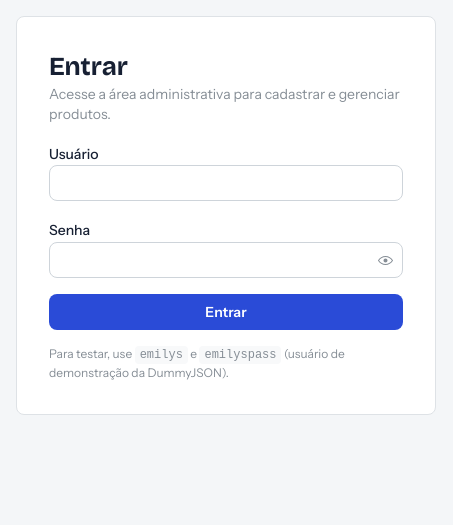
Scenario: LoginPage › exibe mensagem amigável quando as credenciais estão erradas
The width and height of the screenshot is (453, 525).
Type "emilys" into the field labelled "Usuário".
click(226, 184); type("emilys")  # box x1=49 y1=166 x2=403 y2=202
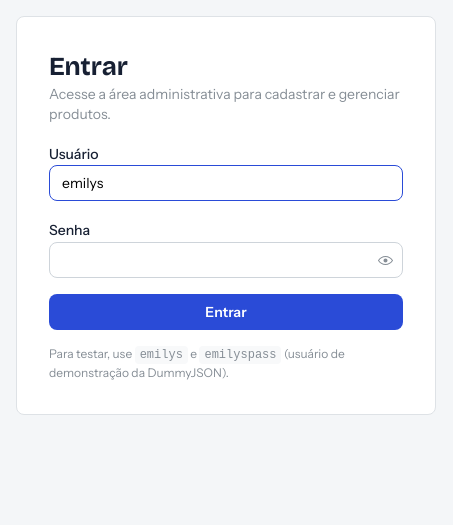
Type "errada" into the password field labelled "Senha".
click(226, 260); type("errada")  # box x1=50 y1=243 x2=402 y2=277
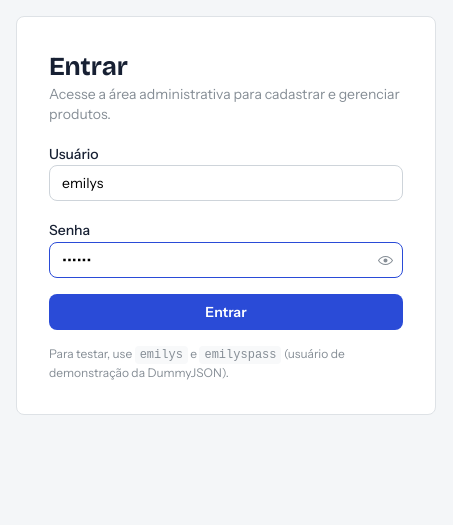
Click the button "Entrar".
click(226, 312)  # box x1=49 y1=294 x2=403 y2=330
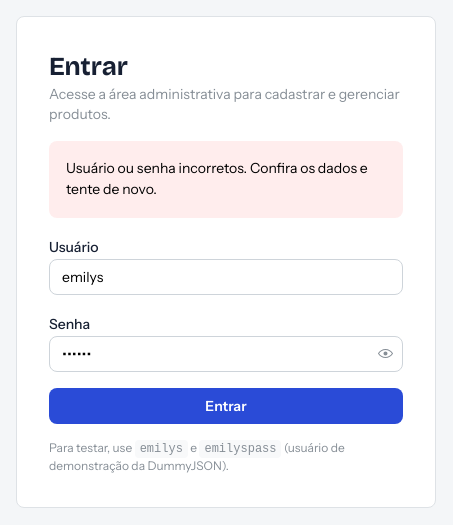
Check: the message shows "Usuário ou senha incorretos", box x1=66 y1=159 x2=368 y2=198
